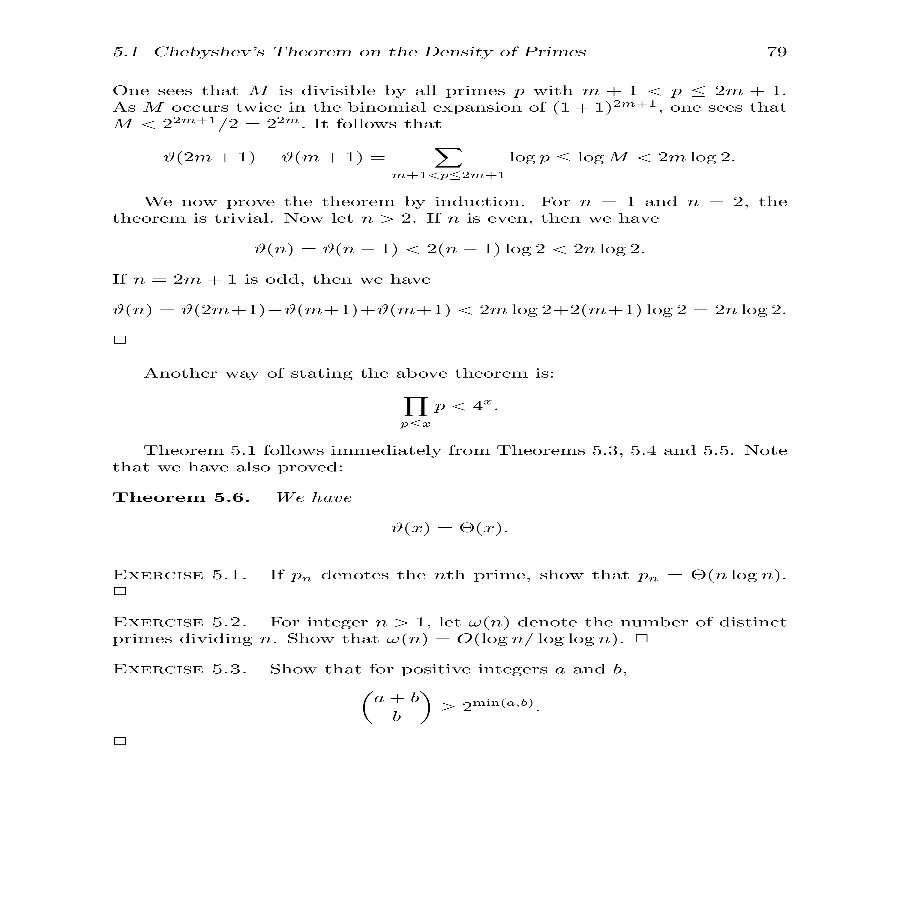eq: (158, 140, 732, 184), (113, 302, 784, 317), (248, 239, 644, 258), (357, 688, 538, 728), (397, 394, 491, 428), (387, 519, 511, 539)
